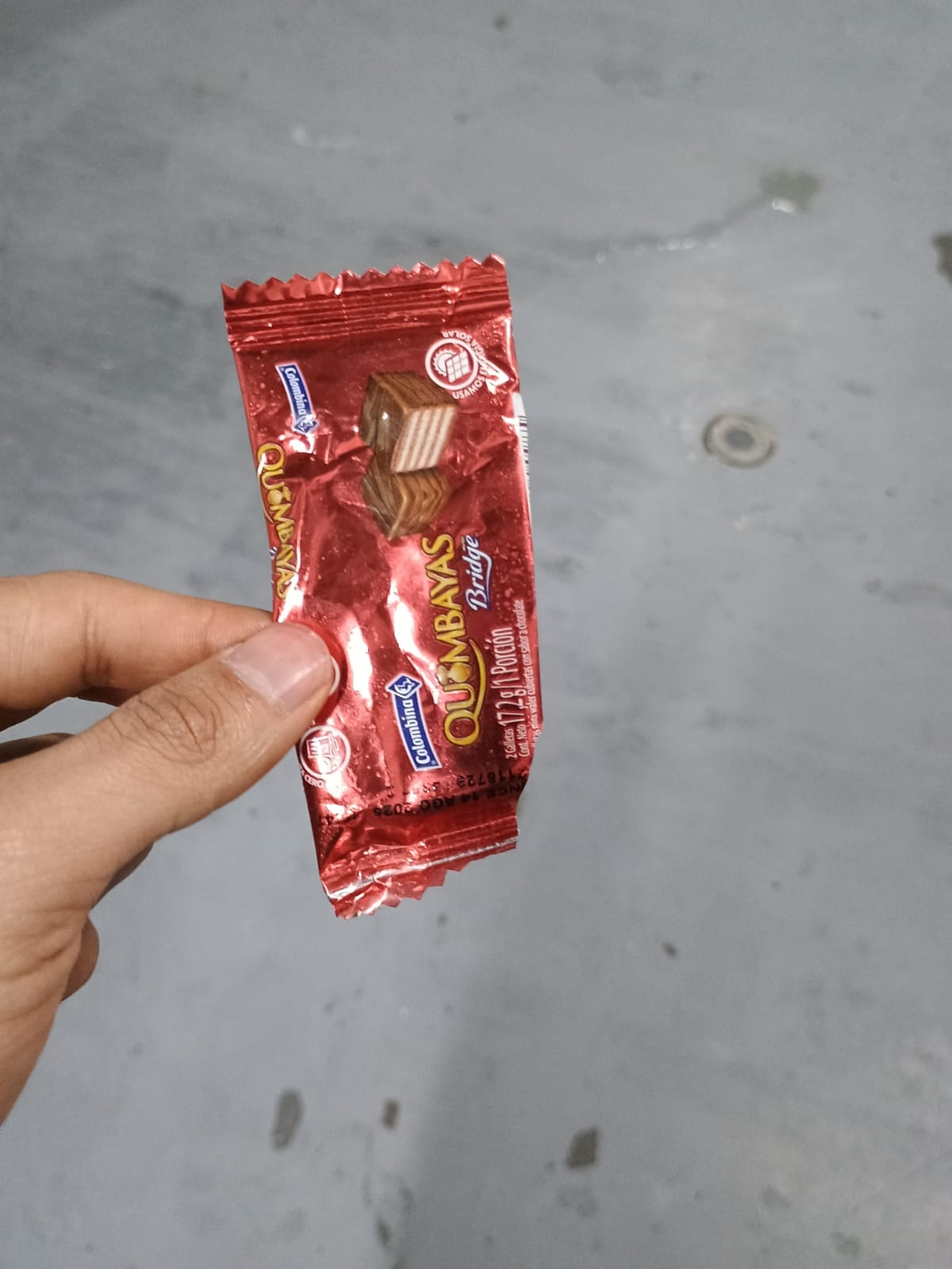Ordinario: (223, 253, 540, 917)
